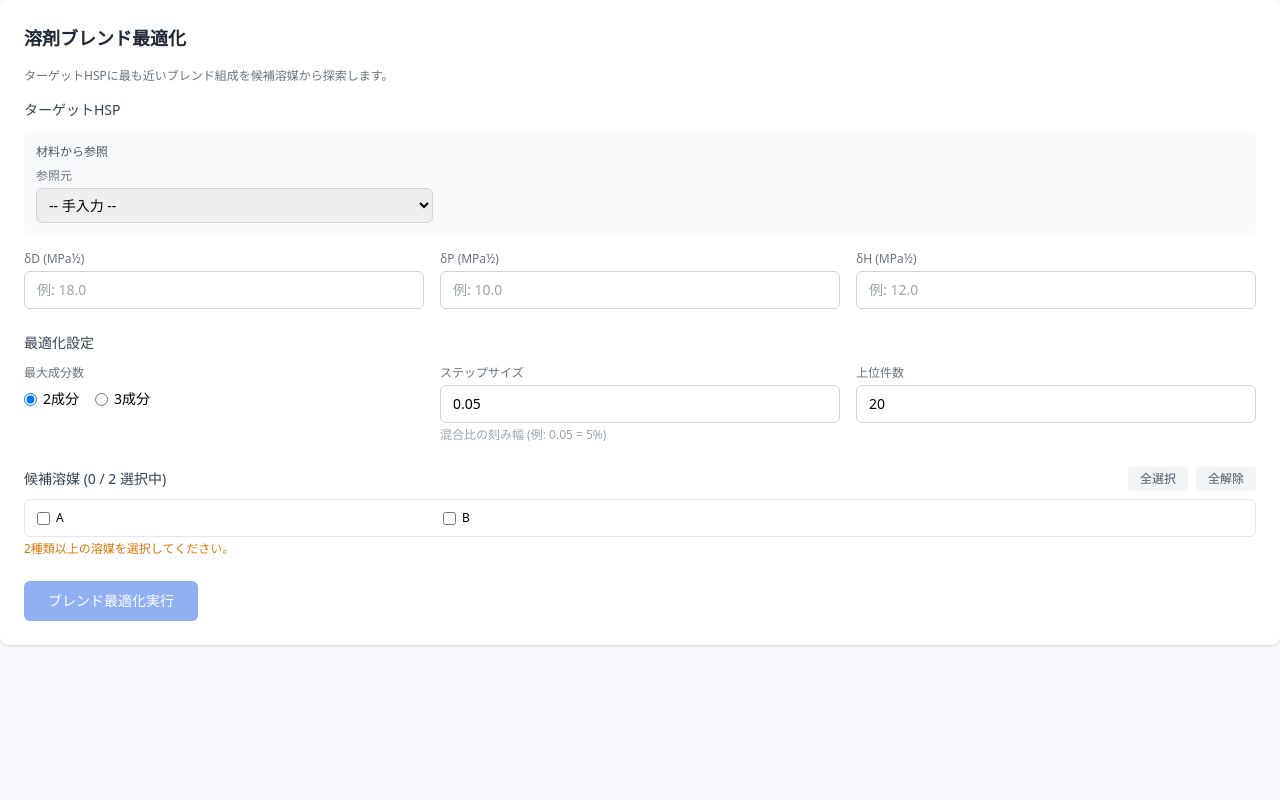
Test case: BlendOptimizerView › 全解除ボタンで全溶媒が解除される
Expected: the text "A" is shown, [56,510,64,526]
Click the button "全選択". click: (1158, 479)
box: [1128,467,1188,491]
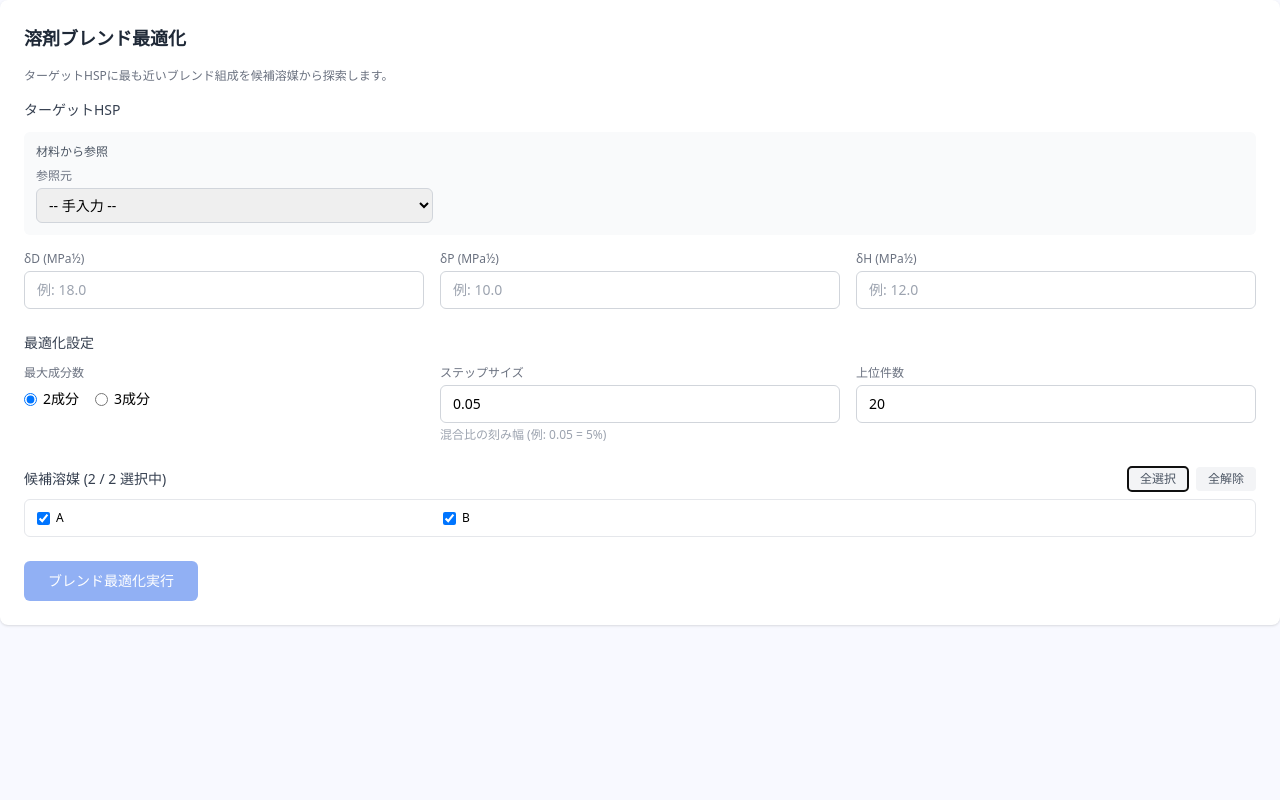
Click the button "全解除". click: (1226, 479)
box: [1196,467,1256,491]
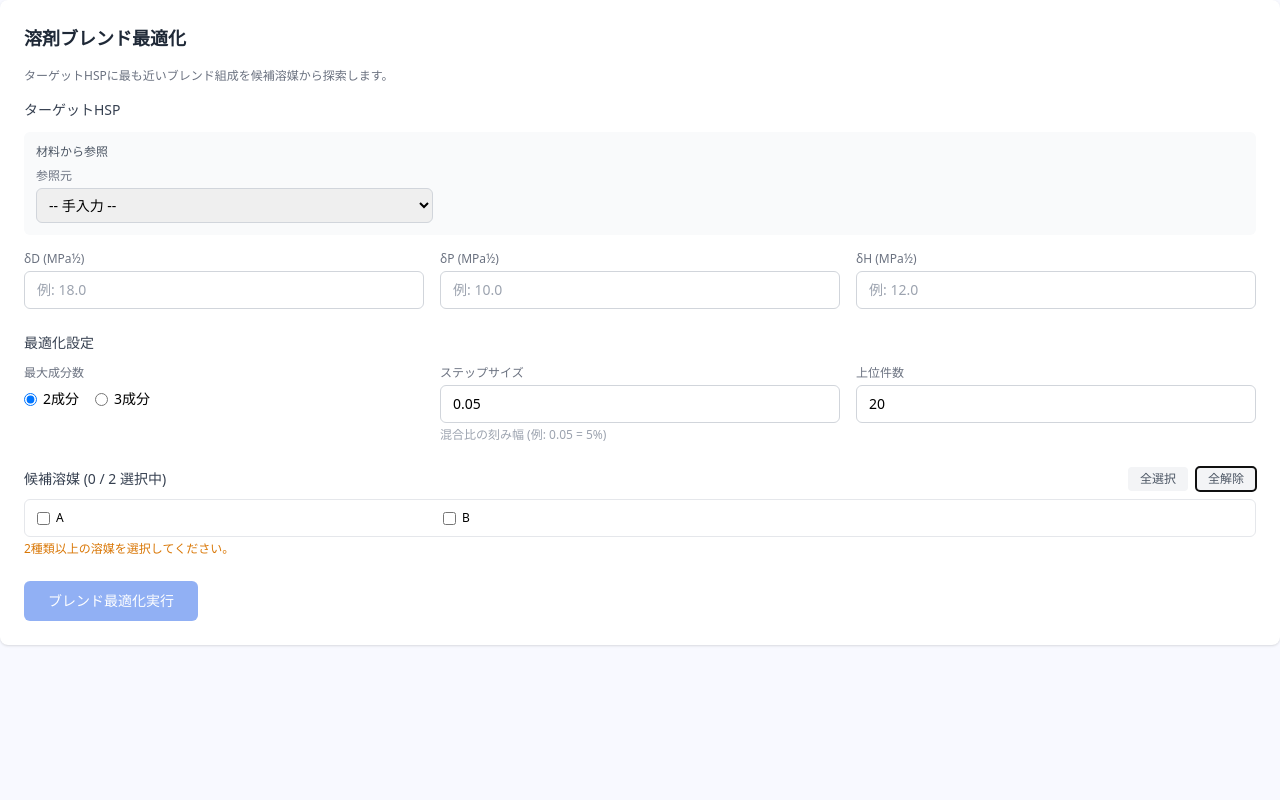
Now the checkbox labelled "A" is not checked, box [37,512,50,524]
Now the checkbox labelled "B" is not checked, box [443,512,456,524]
